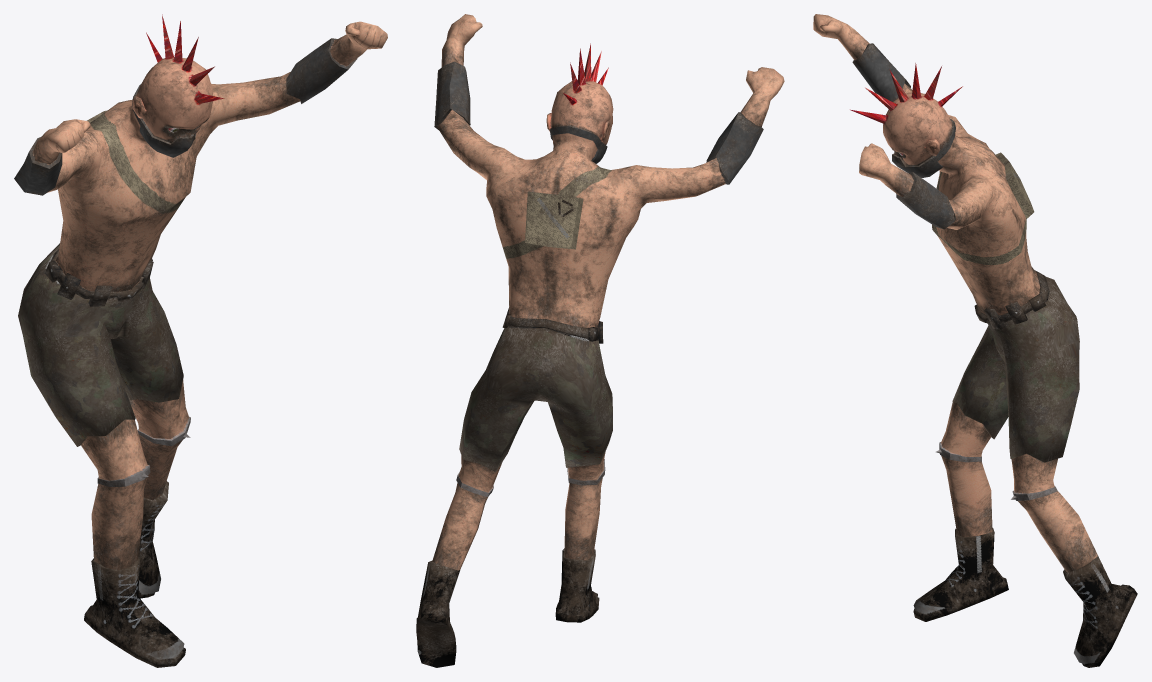
The model's file is Anim_ganar_1_npc2.0031.obj.
The picture shows the model from 3 angles, left to right: view 1: azimuth 30°, elevation 25°; view 2: azimuth 150°, elevation 25°; view 3: azimuth 270°, elevation 25°; orthographic projection. The views are drawn at different scales.
Visible parts, largest first — view 1: polySurface1; view 2: polySurface1; view 3: polySurface1.
Boxes of the visible parts, x1=… form: polySurface1: x1=14, y1=14, x2=387, y2=667; polySurface1: x1=416, y1=14, x2=784, y2=667; polySurface1: x1=813, y1=14, x2=1137, y2=667.
Size of the model in its own units: 5.62 by 10 by 5.09.
Materials: 2 (2 with a texture image).
